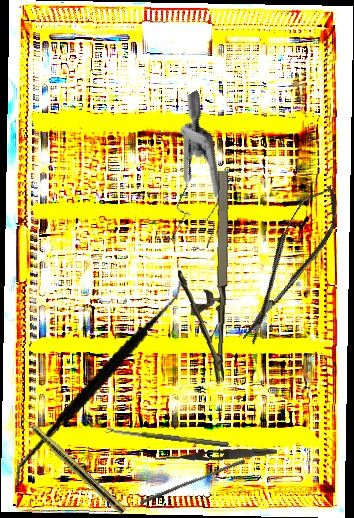Dressing Forceps: (154, 445, 278, 466)
Handpiece: (11, 405, 128, 516)
Micro Scissor: (225, 178, 352, 350)
Needle Holder: (172, 168, 235, 383)
Pusher: (139, 455, 246, 509)
Spatula Surgical: (14, 257, 185, 509)
Speculum: (108, 90, 268, 264)
Surgical Spoon: (105, 426, 229, 448)
